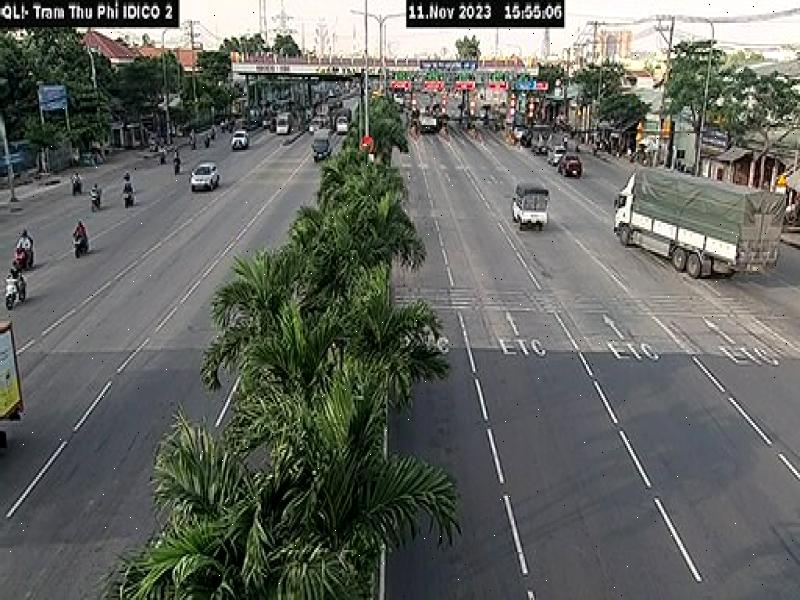truck: (614, 164, 784, 284), (512, 176, 550, 231)
